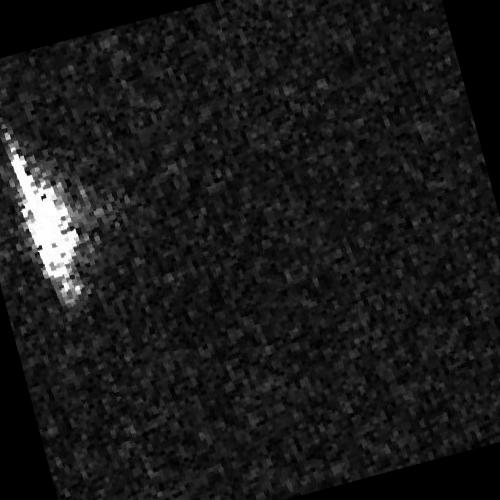ship: (1, 126, 84, 310)
